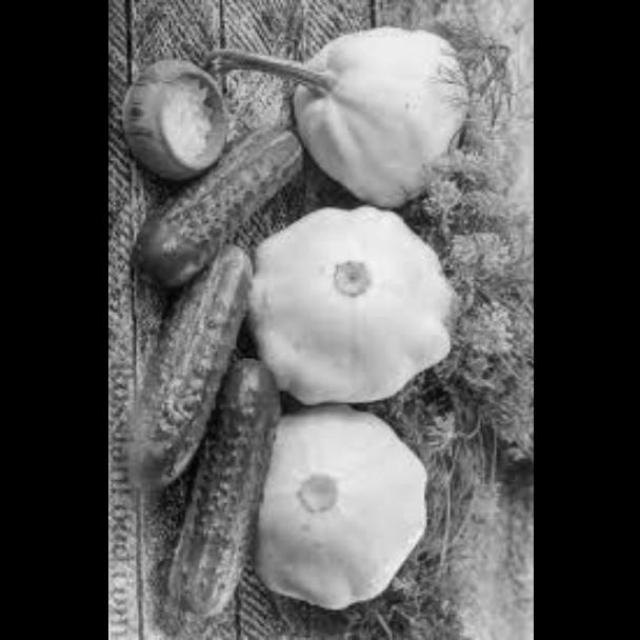bi dao: (224, 10, 469, 203), (265, 201, 472, 405), (260, 399, 431, 607)
dua chuot: (109, 242, 257, 499), (156, 355, 290, 626), (130, 119, 308, 298)
